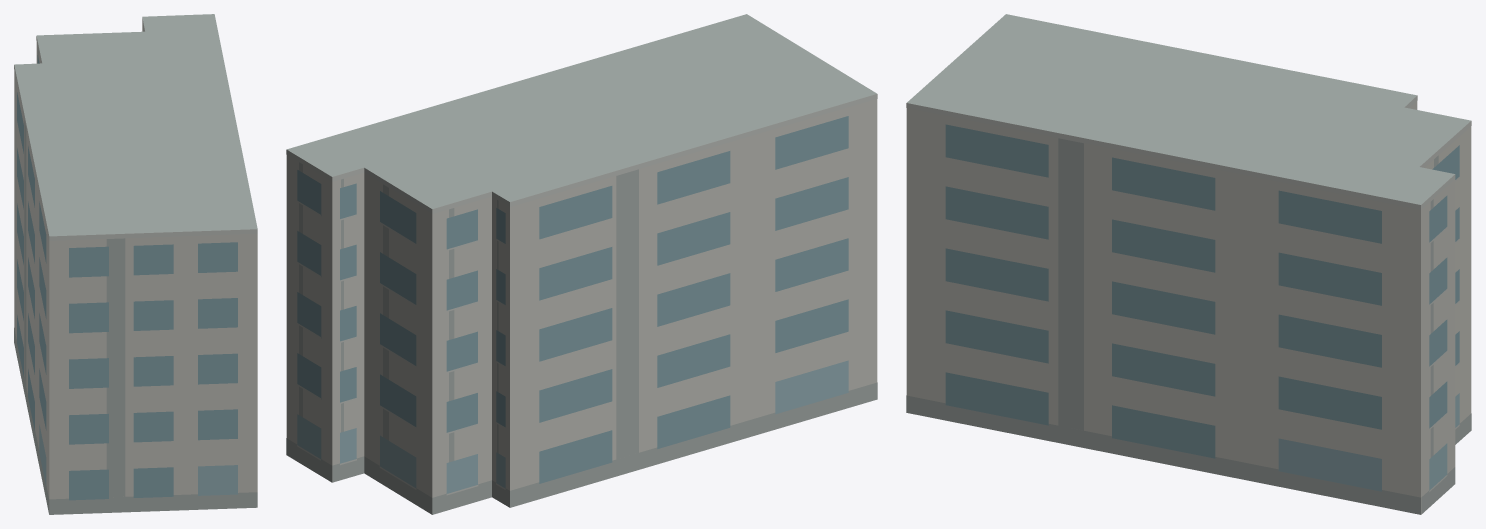
The model's file is survey-upis-32998522.glb.
3 views of the same model, side by side, from view 1: azimuth 30°, elevation 25°; view 2: azimuth 150°, elevation 25°; view 3: azimuth 270°, elevation 25° (orthographic). The views are drawn at different scales.
Parts seen in each view (by area): view 1: survey-upis-32998522.tmp; view 2: survey-upis-32998522.tmp; view 3: survey-upis-32998522.tmp.
Boxes of the visible parts, x1=… form: survey-upis-32998522.tmp: x1=14, y1=14, x2=257, y2=514; survey-upis-32998522.tmp: x1=286, y1=14, x2=877, y2=514; survey-upis-32998522.tmp: x1=906, y1=14, x2=1471, y2=514.
Size of the model in its own units: 19.31 by 14.6 by 24.14.
